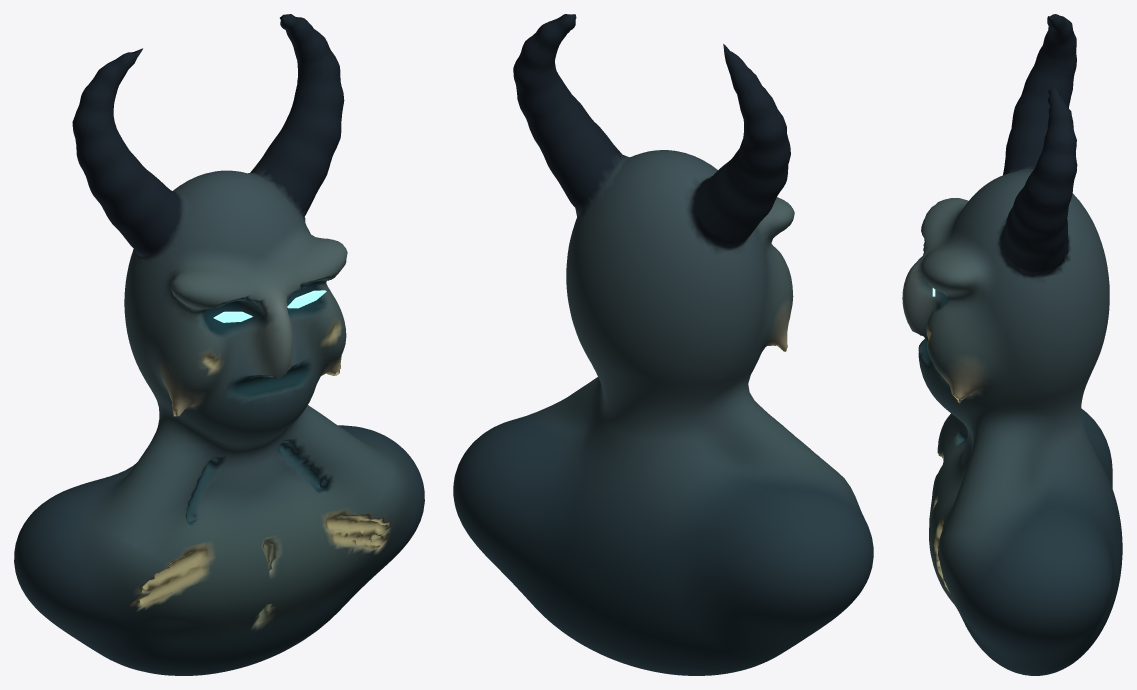
File: warden.glb
3 views of the same model, side by side, from view 1: azimuth 30°, elevation 25°; view 2: azimuth 150°, elevation 25°; view 3: azimuth 270°, elevation 25° (orthographic). The views are drawn at different scales.
Visible parts, largest first — view 1: warden; view 2: warden; view 3: warden.
Boxes of the visible parts, x1=… form: warden: x1=14, y1=14, x2=424, y2=675; warden: x1=453, y1=14, x2=873, y2=675; warden: x1=902, y1=14, x2=1122, y2=675.
Size of the model in its own units: 2.38 by 3.67 by 1.21.
